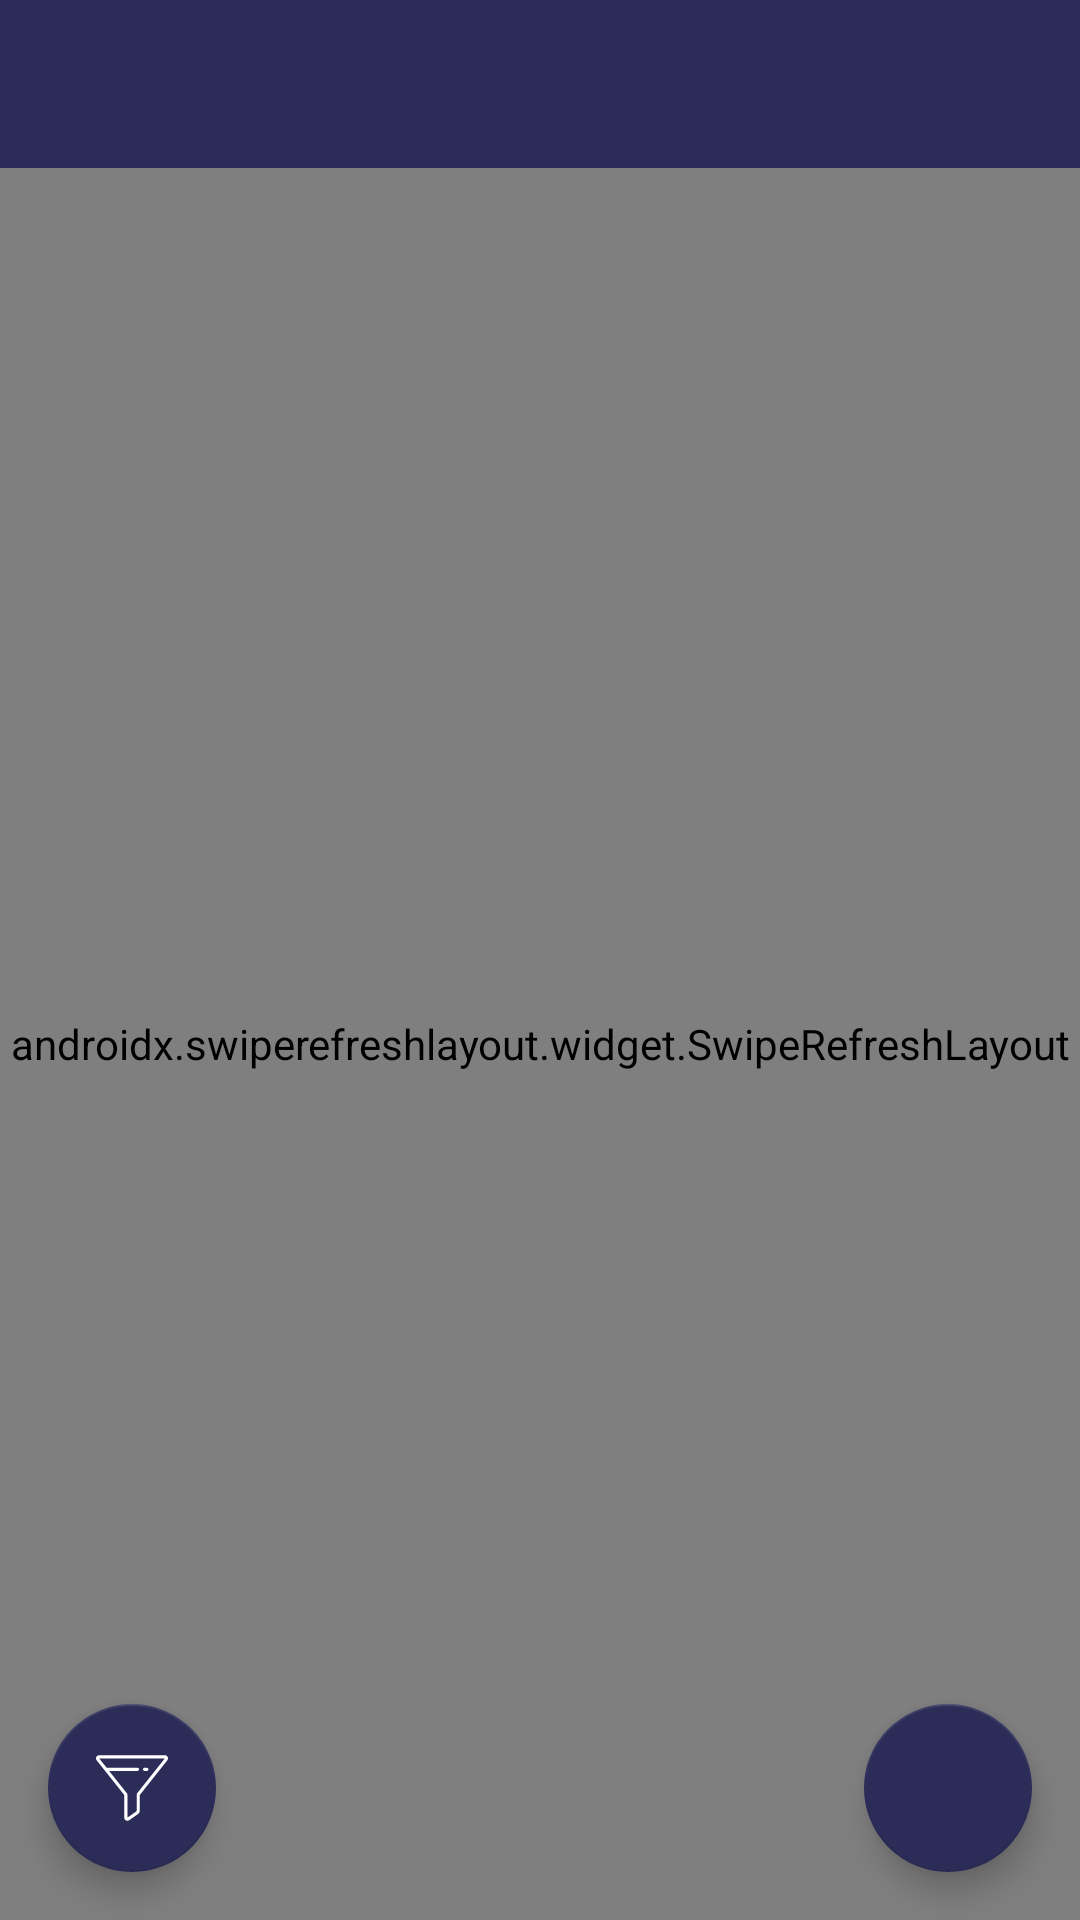

Named icons in this screenshot (1080px×1920px) and their bounding boxes, (x1, y1, x2, y2):
filter: (48, 1704, 216, 1872)
